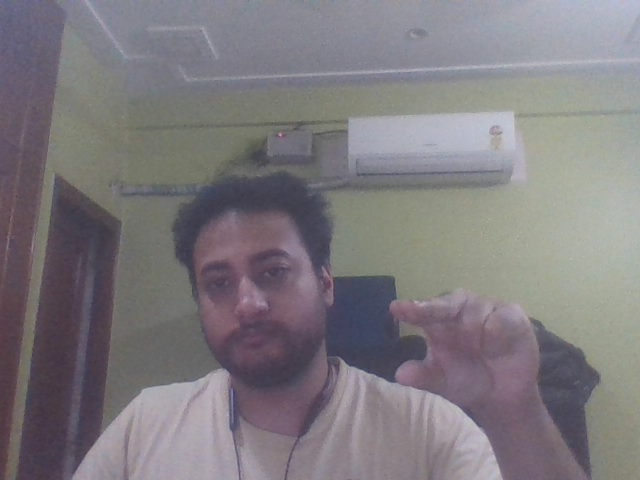No: (366, 274, 570, 424)
